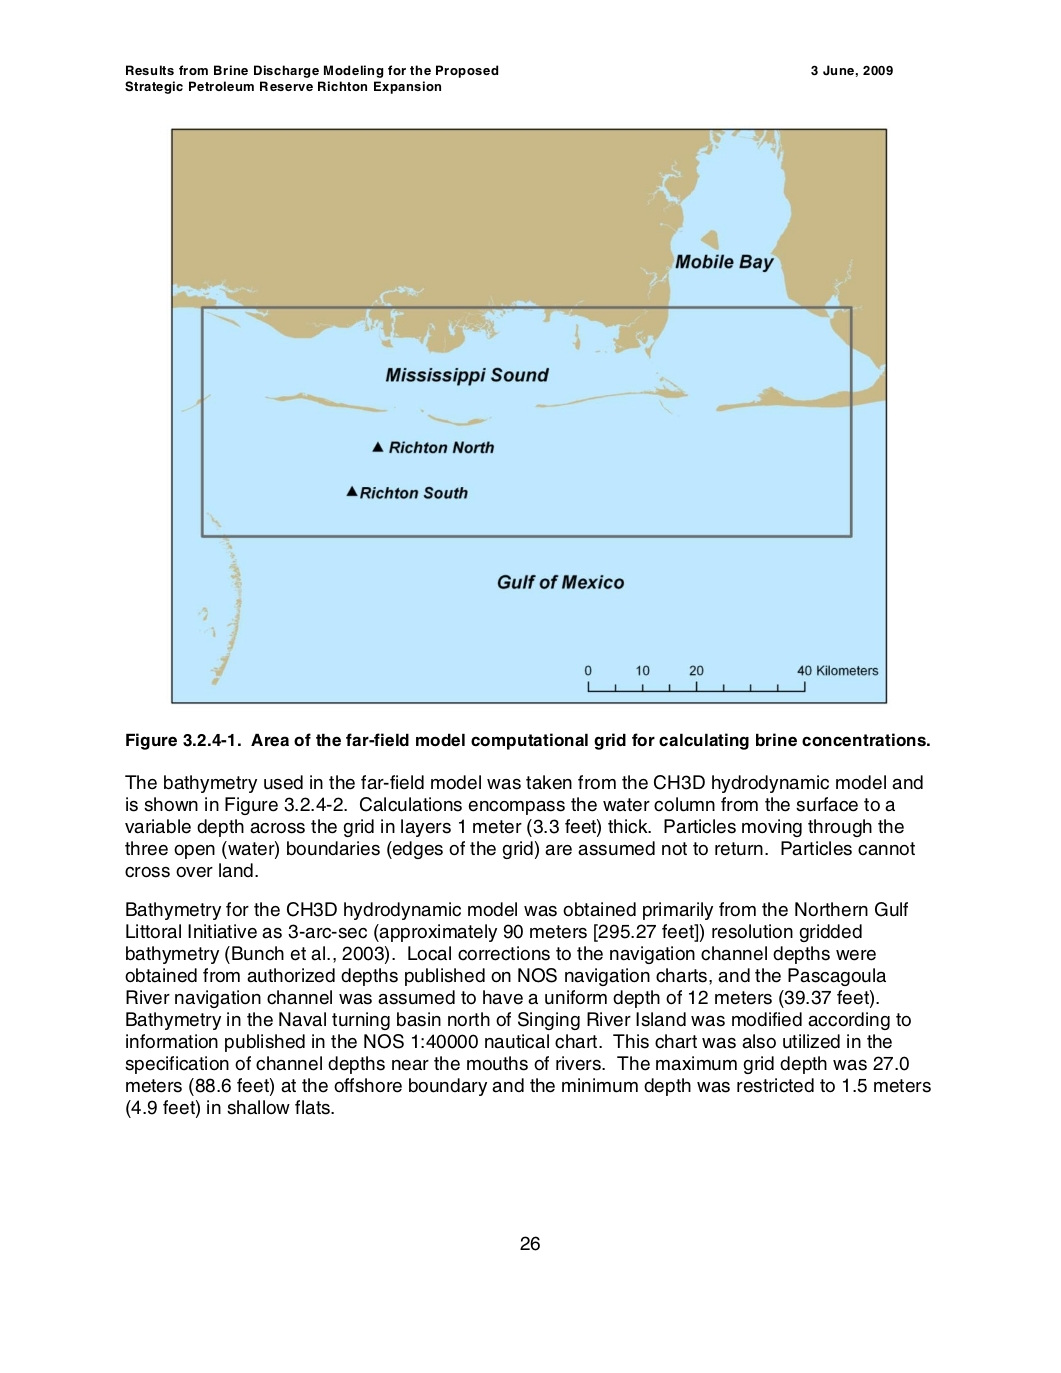figure: (171, 127, 887, 705)
